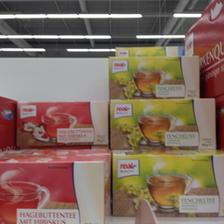Tee: (0, 151, 112, 223), (109, 149, 223, 219), (108, 97, 216, 151), (14, 100, 108, 148), (107, 54, 199, 96)
